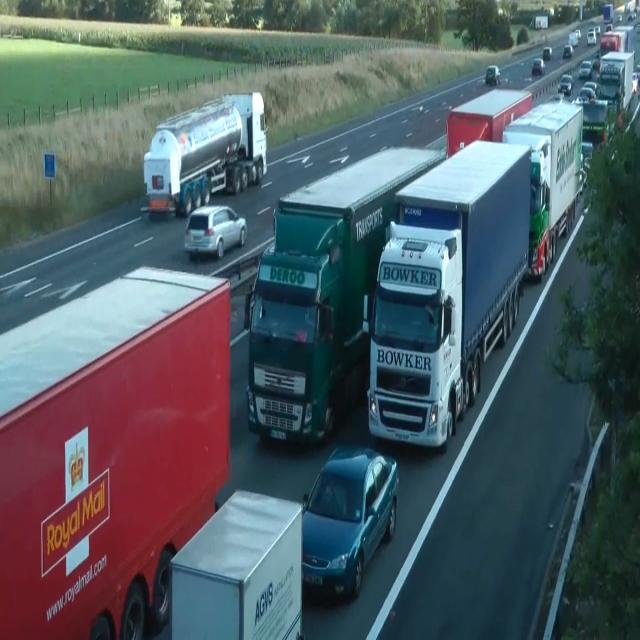bus: (301, 443, 399, 601), (183, 204, 247, 260), (557, 74, 573, 95), (485, 65, 501, 85), (577, 87, 595, 102), (581, 142, 593, 164), (584, 82, 601, 97), (531, 57, 545, 75), (578, 61, 592, 79), (632, 71, 640, 94), (586, 28, 596, 46), (563, 44, 573, 58), (542, 46, 552, 60), (568, 32, 578, 46), (592, 58, 600, 72), (605, 23, 613, 32), (594, 25, 600, 35), (574, 29, 580, 39)
minibus: (0, 264, 231, 639), (244, 144, 446, 446), (362, 138, 532, 450), (168, 488, 304, 639), (139, 90, 267, 220), (502, 97, 584, 281), (204, 90, 268, 194), (445, 87, 533, 159), (595, 50, 635, 116), (571, 94, 609, 147)
